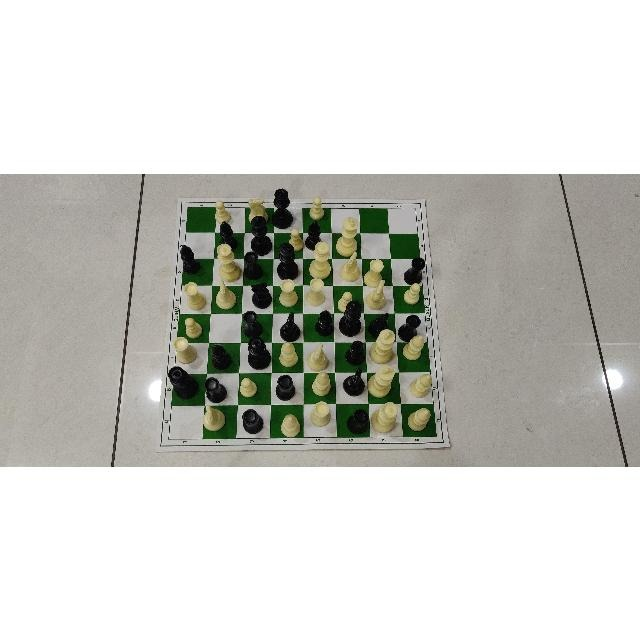black-bishop: (215, 220, 241, 250), (312, 307, 336, 338), (304, 220, 327, 252), (208, 343, 236, 368), (179, 242, 202, 272), (344, 338, 367, 367)
black-king: (274, 241, 302, 280), (338, 298, 366, 336), (250, 215, 272, 253)
black-knight: (277, 309, 304, 341), (342, 366, 367, 397), (247, 280, 273, 308), (367, 312, 394, 338)
black-queen: (167, 363, 199, 402), (242, 336, 273, 372), (270, 186, 295, 229)
black-rook: (204, 374, 232, 404), (240, 249, 265, 279), (273, 372, 299, 400), (397, 313, 423, 341), (346, 404, 368, 437), (240, 308, 265, 337), (239, 407, 265, 434), (403, 255, 425, 285)
white-bishop: (275, 341, 301, 369), (407, 404, 432, 433), (277, 410, 302, 438), (401, 331, 426, 359), (410, 371, 434, 399), (309, 370, 334, 395)
white-king: (365, 361, 395, 399), (335, 217, 361, 257), (370, 327, 398, 363)
white-knight: (200, 402, 229, 431), (365, 278, 389, 312), (213, 277, 239, 308), (304, 343, 331, 372), (243, 196, 273, 222), (336, 250, 361, 280)
white-pawn: (211, 197, 234, 223), (181, 315, 203, 339), (401, 281, 422, 305), (308, 194, 326, 222), (336, 288, 356, 313), (285, 226, 303, 253), (237, 376, 258, 399)
white-queen: (213, 242, 243, 282), (372, 396, 400, 435), (308, 238, 332, 279)
white-rook: (170, 334, 201, 365), (181, 279, 209, 310), (362, 257, 387, 289), (308, 399, 333, 429), (276, 277, 300, 306), (305, 275, 327, 306)
